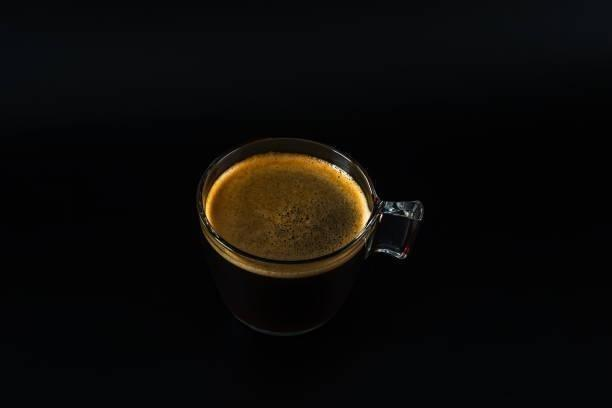glass-mug: (194, 134, 427, 341)
